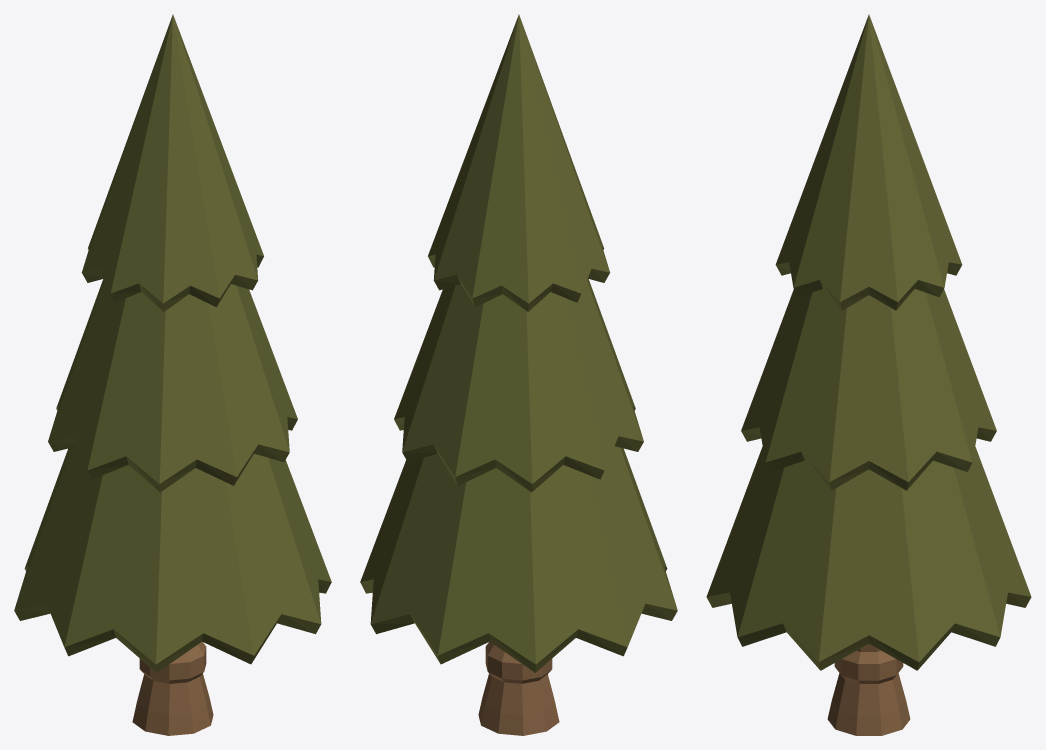
The model's file is cone-toy-tree-4a5365.glb.
3 views of the same model, side by side, from view 1: azimuth 30°, elevation 25°; view 2: azimuth 150°, elevation 25°; view 3: azimuth 270°, elevation 25° (orthographic).
Parts seen in each view (by area): view 1: tree; view 2: tree; view 3: tree.
Part boxes in pixels (x1=…): tree: x1=14, y1=14, x2=331, y2=735; tree: x1=360, y1=14, x2=677, y2=735; tree: x1=706, y1=14, x2=1031, y2=735.
Bounding box in the file's own units: 1.79 × 4.5 × 1.88.
